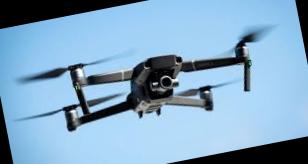drone: (27, 8, 276, 155)
